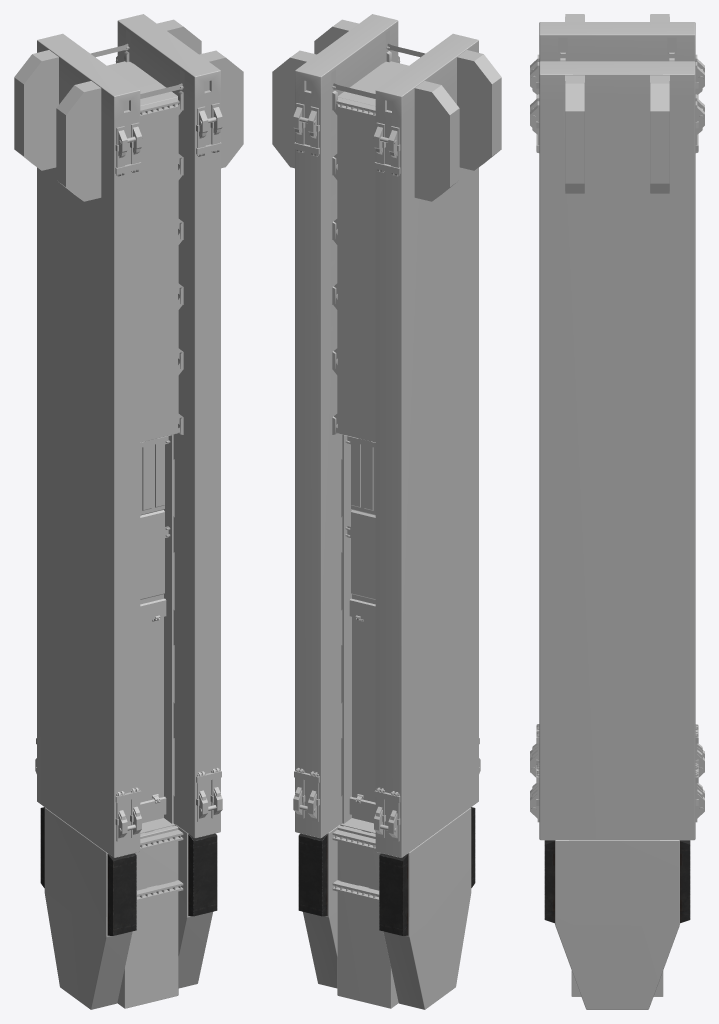
Rendered from Wall_Large_06_LOD1.fbx.
The picture shows the model from 3 angles, left to right: view 1: azimuth 30°, elevation 25°; view 2: azimuth 150°, elevation 25°; view 3: azimuth 270°, elevation 25°; orthographic projection.
Parts seen in each view (by area): view 1: Concrete_Blocks, Element1, Element4, Element3, Element5, Element2; view 2: Concrete_Blocks, Element1, Element4, Element3, Element5, Element2; view 3: Concrete_Blocks, Element5, Element3, Element4.
Part boxes in pixels (box(x1,y1,x2,y2)): Concrete_Blocks: box(14, 14, 243, 1009); Element1: box(140, 434, 175, 835); Element4: box(90, 30, 184, 455); Element3: box(40, 807, 217, 935); Element5: box(35, 56, 222, 841); Element2: box(107, 61, 183, 901); Concrete_Blocks: box(272, 14, 501, 1009); Element1: box(340, 434, 375, 835); Element4: box(331, 30, 425, 455); Element3: box(298, 807, 475, 935); Element5: box(293, 56, 480, 841); Element2: box(332, 61, 408, 901); Concrete_Blocks: box(539, 14, 695, 1009); Element5: box(530, 54, 704, 822); Element3: box(544, 840, 690, 923); Element4: box(558, 37, 676, 61).
Size of the model in its own units: 661 by 3310 by 561.
